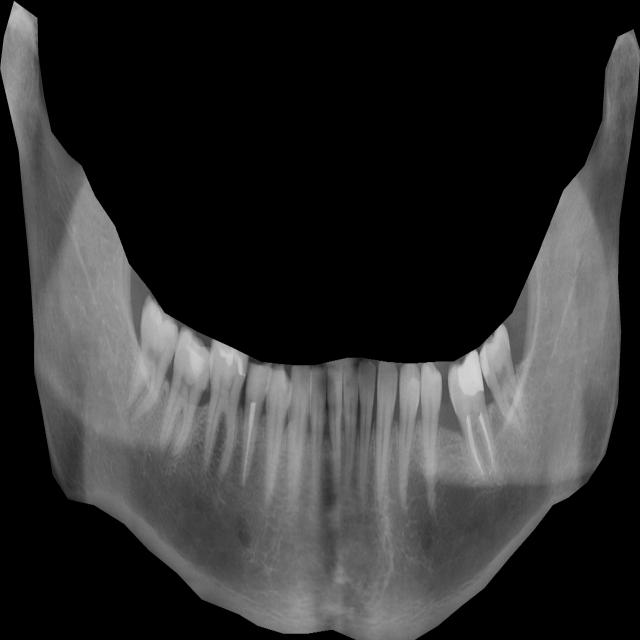mandibula: (0, 1, 640, 640)
